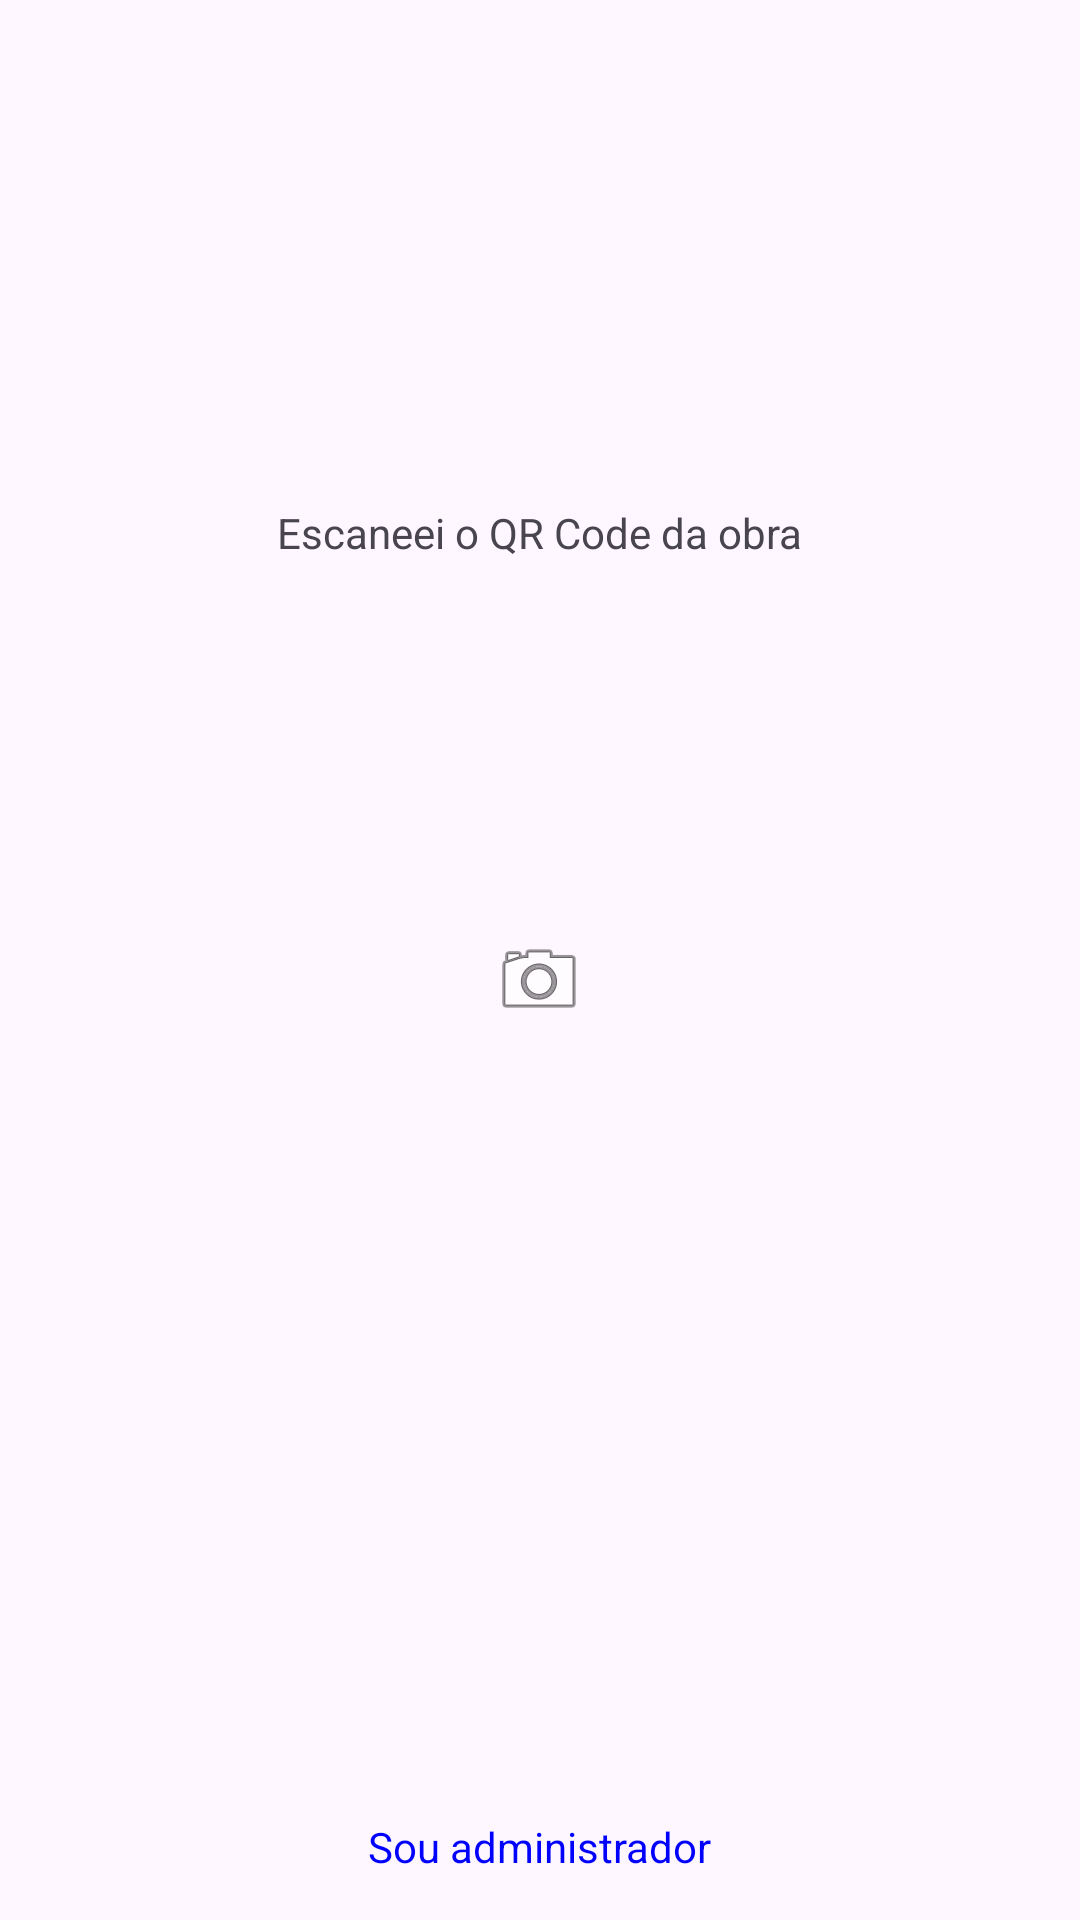

Icons on this 1080 x 1920 Android screen, each with its box as rect(x1, y1, x2, y2):
Scan QR: rect(502, 949, 576, 1008)
